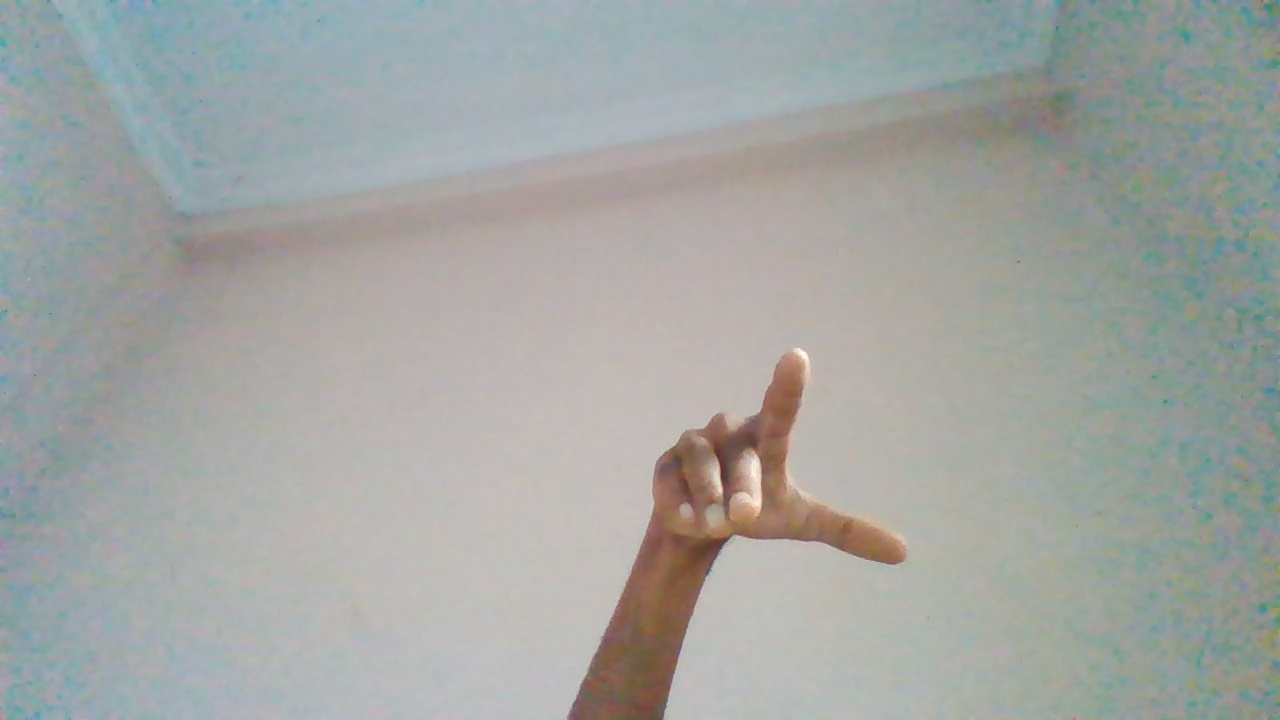ke: (617, 331, 916, 675)
